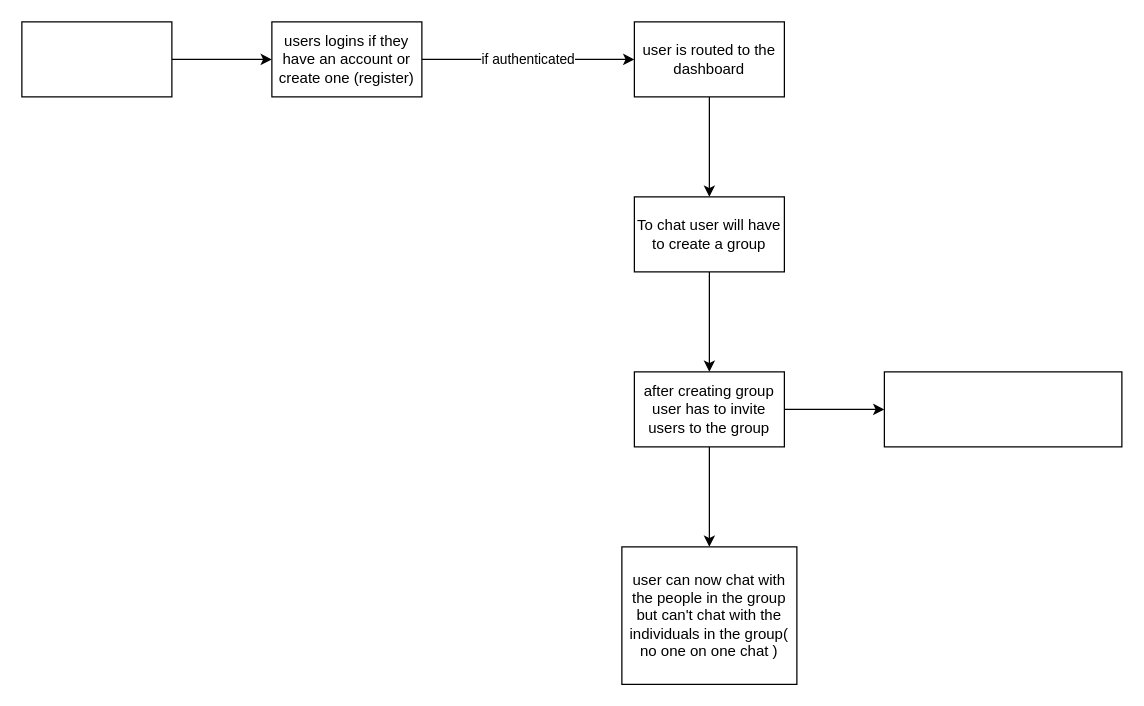
This 1144x706 diagram has some shape labels left out. Each missing label, with the centre of its shape:
"For user to invite another user that user must exist on the platform" goes at point 1002,409.
"user visits site" goes at point 96,59.
